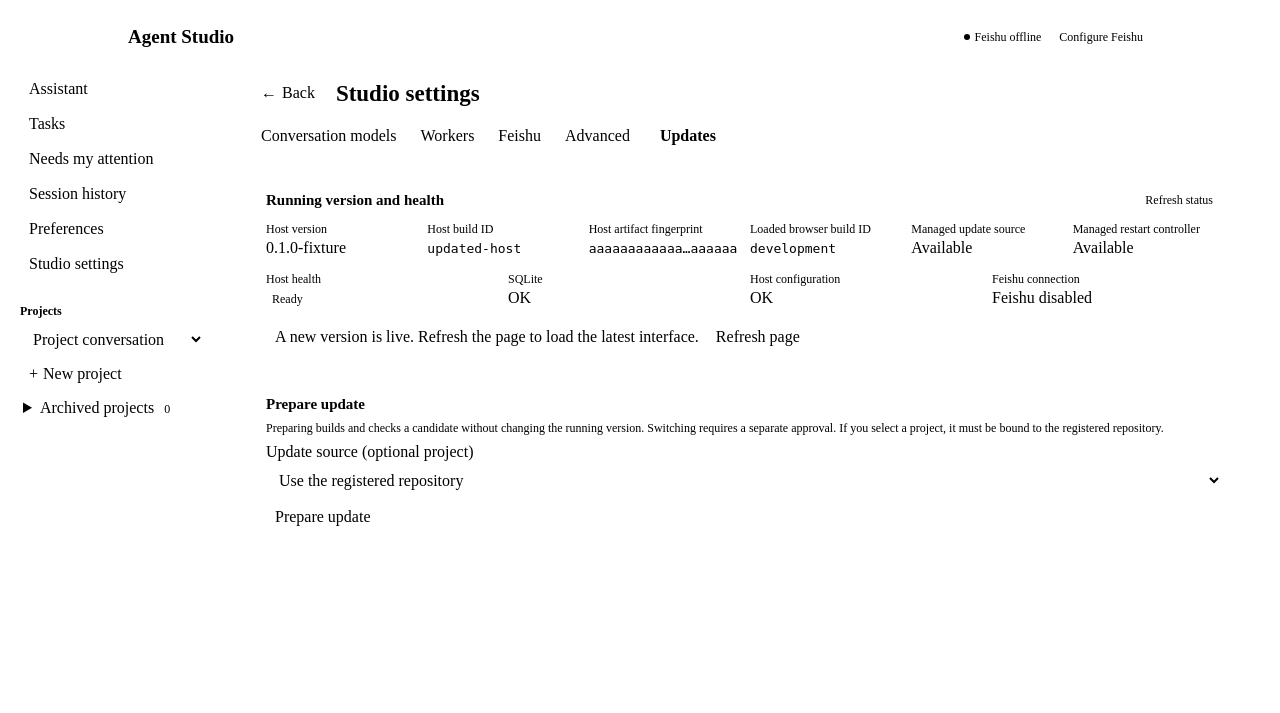
Test: renders failures and safe log references literally, and requests rollback only for the verified earlier release
The image size is (1280, 713).
Earlier steps of the test are not shown.
Later steps or results of the test are not shown.
Step 1. Click the button "Refresh status" → (1179, 200), box [1136,185,1222,215]
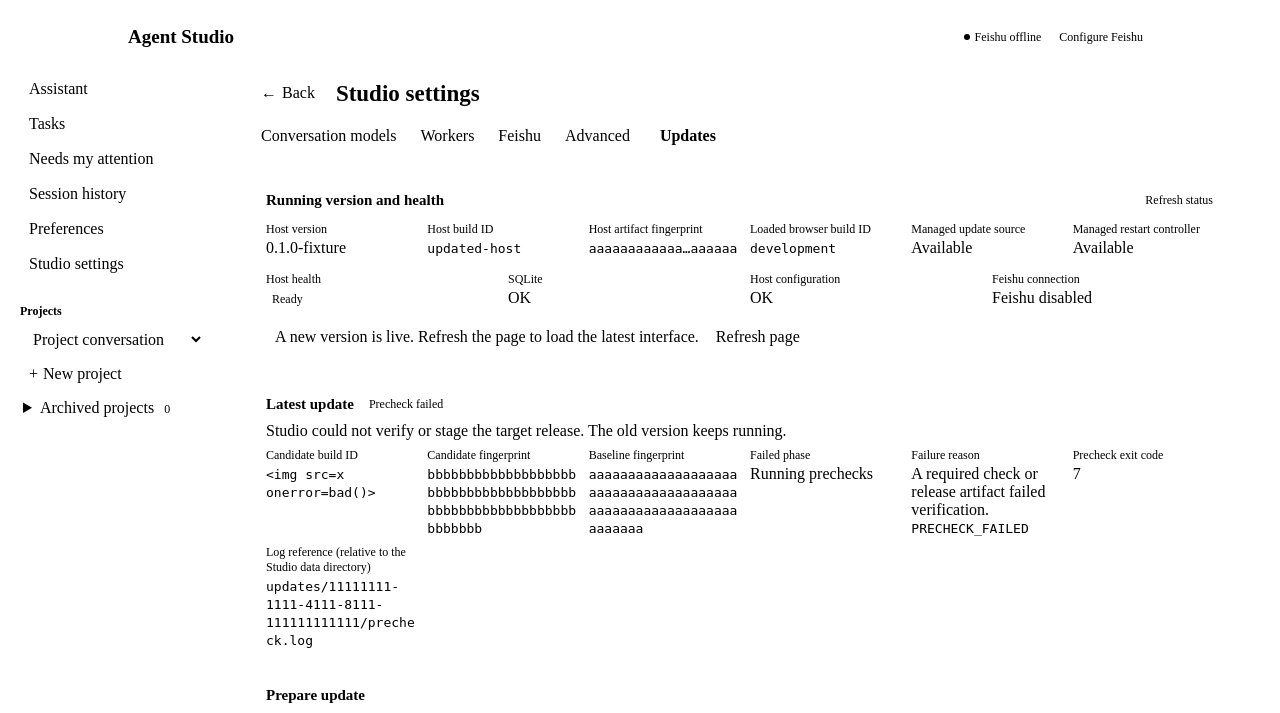
Expected: the element with class "as-update-record" shows "Precheck failed", [369,397,443,411]
Expected: the element with class "as-update-record" shows "A required check or release artifact failed verification.", [911,465,1045,518]
